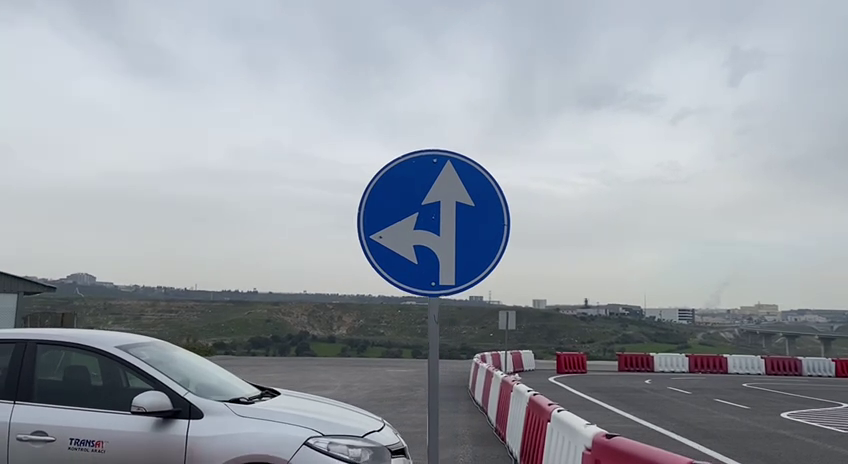forwardAndLeft: (355, 147, 513, 299)
